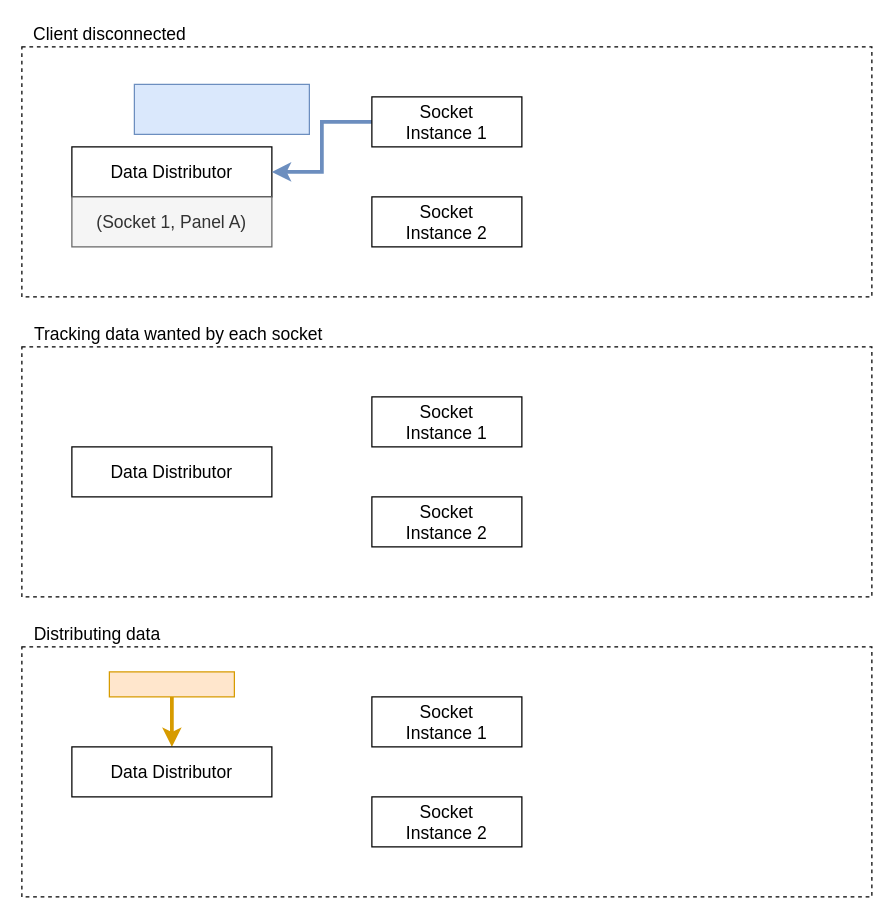
Image size: 894x919. Some labels were removed from this diagram. The centre of each missing label's shape, as x and y in pixels:
Connection Tracking Synchronisation: [221,108]
Panel A Data: [171,684]
